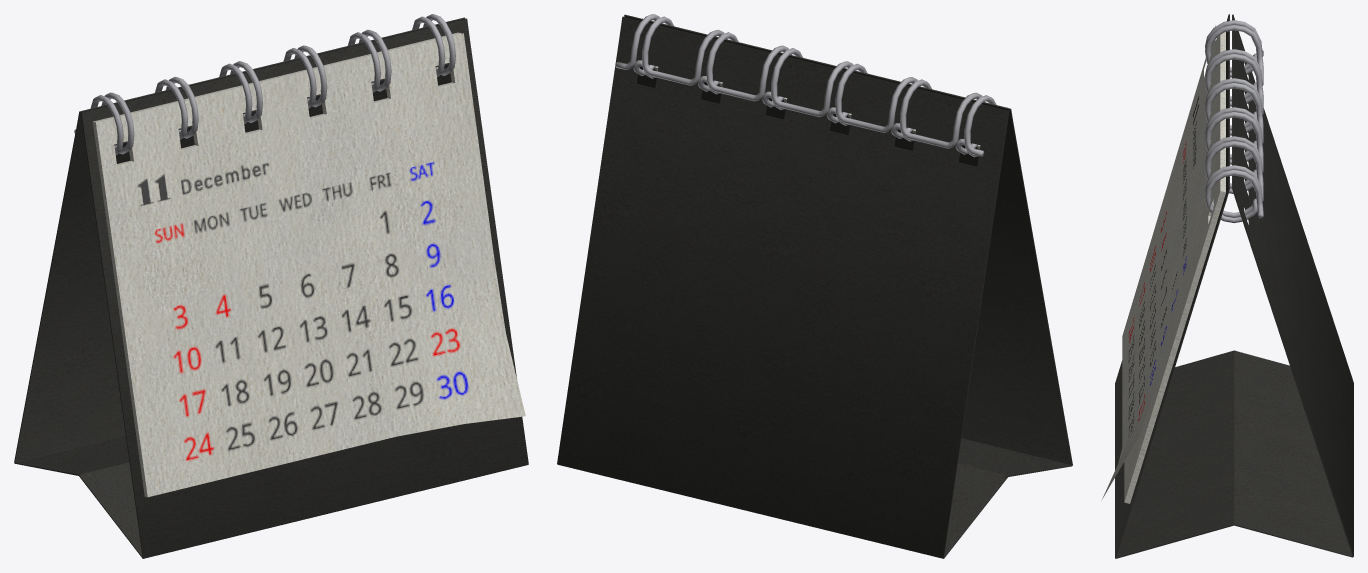
Rendered from calendar-model.glb.
The picture shows the model from 3 angles, left to right: view 1: azimuth 30°, elevation 25°; view 2: azimuth 150°, elevation 25°; view 3: azimuth 270°, elevation 25°; orthographic projection. The views are drawn at different scales.
Visible parts, largest first — view 1: DeskCalendar.003, DeskCalendar.001, DeskCalendar, DeskCalendar.002; view 2: DeskCalendar.001, DeskCalendar; view 3: DeskCalendar.001, DeskCalendar.003, DeskCalendar, DeskCalendar.002.
Boxes of the visible parts, left/top/right/bottom form: DeskCalendar.003: left=98, top=33, right=525, bottom=496; DeskCalendar.001: left=14, top=17, right=528, bottom=558; DeskCalendar: left=74, top=14, right=455, bottom=155; DeskCalendar.002: left=93, top=32, right=461, bottom=497; DeskCalendar.001: left=557, top=14, right=1072, bottom=558; DeskCalendar: left=615, top=14, right=996, bottom=157; DeskCalendar.001: left=1115, top=14, right=1353, bottom=558; DeskCalendar.003: left=1101, top=25, right=1215, bottom=500; DeskCalendar: left=1205, top=20, right=1263, bottom=223; DeskCalendar.002: left=1124, top=32, right=1225, bottom=503.
Size of the model in its own units: 0.06 by 0.0607 by 0.0369.
Materials: 1 (1 with a texture image).
